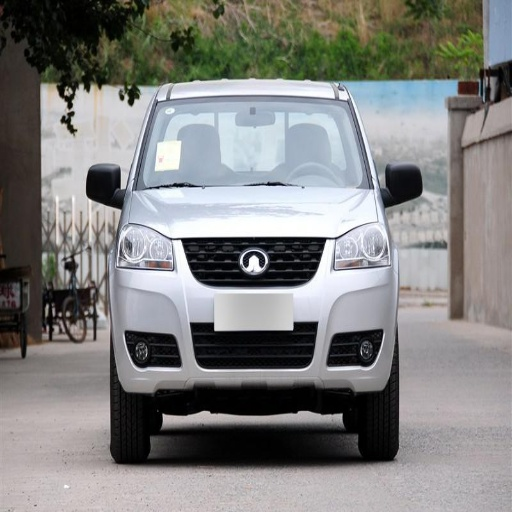front_bumper: (113, 236, 397, 395)
front_right_light: (117, 223, 175, 270)
hood: (129, 188, 375, 238)
left_mirror: (382, 163, 423, 207)
